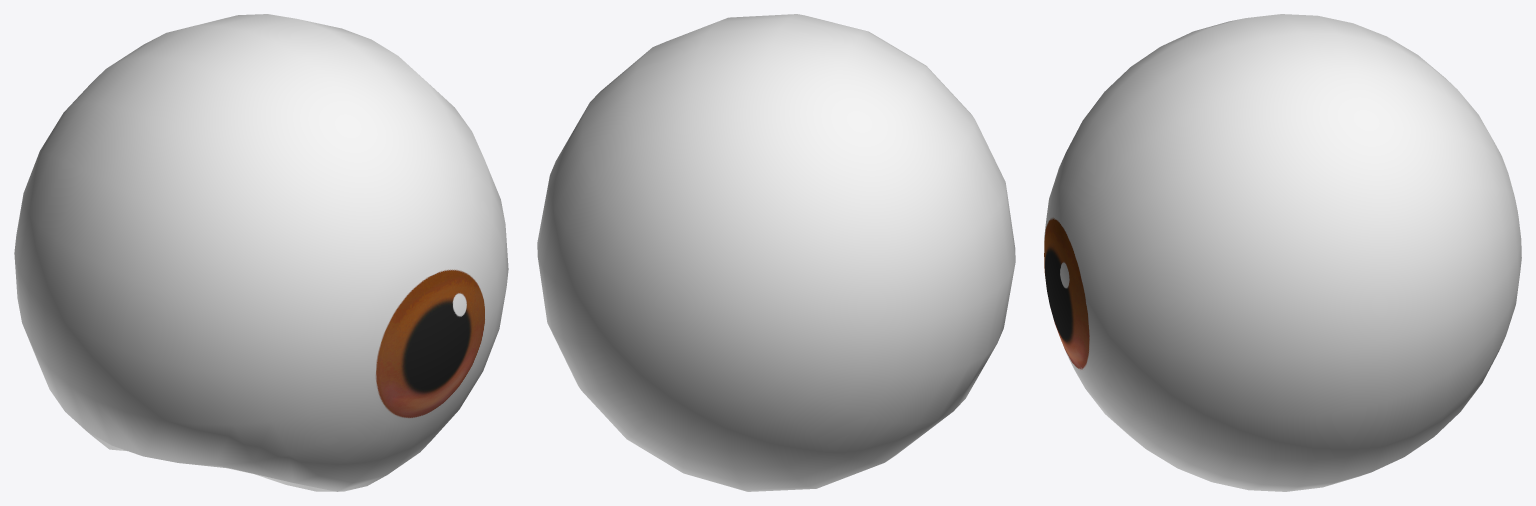
Rendered from JOJO_eye_L.FBX.
3 renders of one model, left to right at view 1: azimuth 30°, elevation 25°; view 2: azimuth 150°, elevation 25°; view 3: azimuth 270°, elevation 25°, orthographic. The views are drawn at different scales.
Visible parts, largest first — view 1: JOJO_eye_L; view 2: JOJO_eye_L; view 3: JOJO_eye_L.
Part boxes in pixels (box(x1,y1,x2,y2)): JOJO_eye_L: box(14, 14, 508, 491); JOJO_eye_L: box(537, 14, 1015, 491); JOJO_eye_L: box(1044, 14, 1521, 491).
Size of the model in its own units: 17.49 by 17.44 by 17.46.
